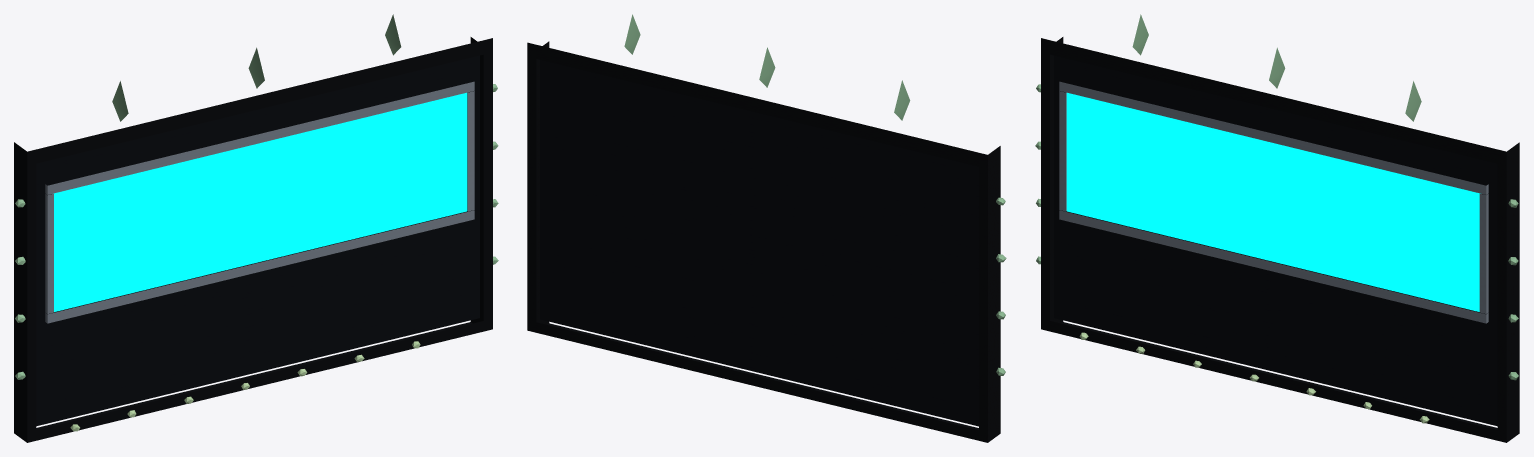
Rendered from v5_green_backdrop.glb.
3 views of the same model, side by side, from view 1: azimuth 30°, elevation 25°; view 2: azimuth 150°, elevation 25°; view 3: azimuth 330°, elevation 25° (orthographic).
Parts seen in each view (by area): view 1: Wall_Core, Screen_Band, Wall_Frame, Screen_Bezel, Leaf_Crests; view 2: Wall_Core, Wall_Frame, Leaf_Crests; view 3: Wall_Core, Screen_Band, Wall_Frame, Screen_Bezel, Leaf_Crests.
Boxes of the visible parts, <box> form: Wall_Core: <box>36,55,479,426</box>; Screen_Band: <box>53,92,467,311</box>; Wall_Frame: <box>14,37,492,442</box>; Screen_Bezel: <box>45,81,474,323</box>; Leaf_Crests: <box>112,14,401,121</box>; Wall_Core: <box>540,60,978,426</box>; Wall_Frame: <box>527,41,1000,442</box>; Leaf_Crests: <box>624,14,910,120</box>; Wall_Core: <box>1054,55,1497,426</box>; Screen_Band: <box>1066,92,1480,311</box>; Wall_Frame: <box>1041,37,1519,442</box>; Screen_Bezel: <box>1059,81,1488,323</box>; Leaf_Crests: <box>1132,14,1421,121</box>.
Size of what is drawn, in the model's own units: 4.23 by 2.83 by 0.275.
Materials: 6 (3 with a texture image).
